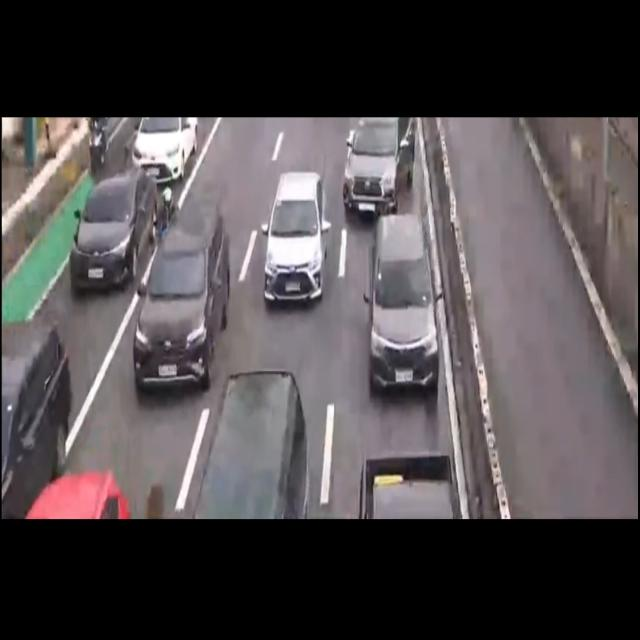SUV: (132, 200, 228, 391), (364, 207, 442, 403), (0, 327, 77, 514)
Sedan: (70, 161, 157, 295), (265, 162, 329, 302)
